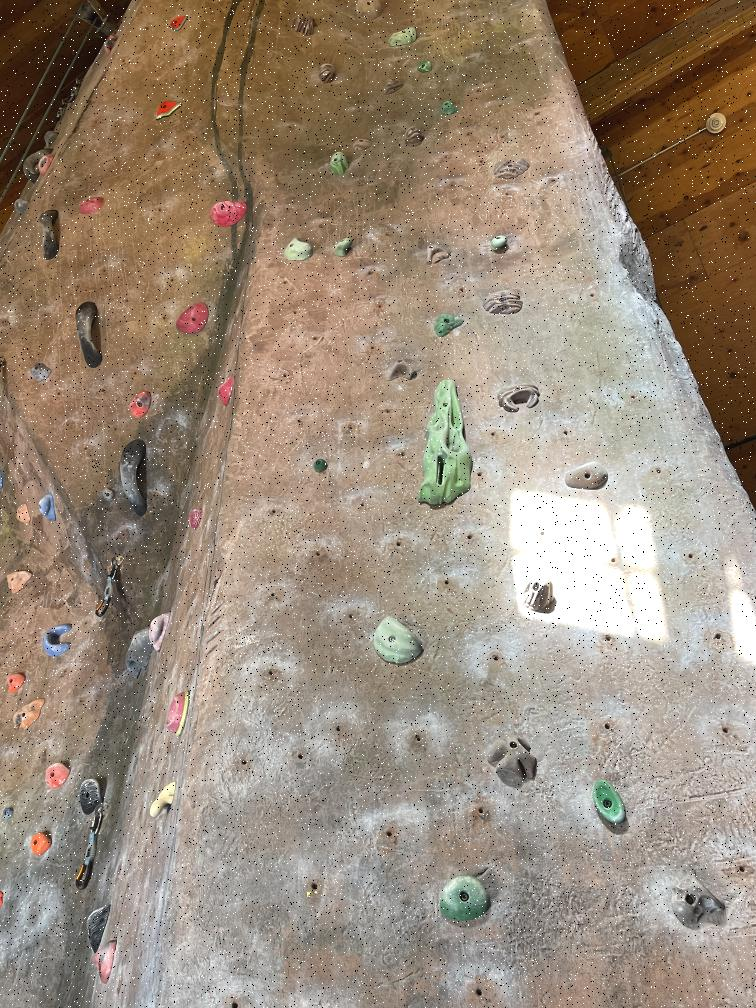Crimp: (8, 696, 50, 733), (384, 23, 427, 50), (429, 310, 466, 340), (144, 98, 188, 123), (3, 566, 35, 594), (216, 375, 238, 409), (14, 498, 34, 529), (166, 14, 192, 32), (351, 135, 376, 153), (415, 57, 435, 75)
Edges: (416, 378, 480, 524), (480, 286, 526, 321), (490, 154, 532, 182), (288, 13, 321, 40), (73, 195, 110, 215), (400, 124, 428, 147)
Foothold: (126, 388, 154, 424), (26, 357, 58, 388), (306, 453, 335, 477), (100, 487, 116, 506)
Jug: (364, 604, 434, 676), (424, 872, 504, 929), (65, 294, 113, 373), (116, 437, 159, 518), (513, 568, 563, 622), (29, 200, 66, 268), (557, 456, 618, 496), (138, 772, 181, 824), (33, 618, 79, 658), (123, 624, 155, 680), (93, 940, 129, 987), (82, 904, 112, 946), (280, 234, 316, 264), (78, 776, 105, 813), (324, 148, 353, 181), (41, 759, 72, 789), (329, 230, 356, 261), (28, 829, 56, 858), (486, 232, 511, 256), (4, 672, 30, 694), (317, 61, 337, 85)
Pinch: (667, 865, 728, 934), (479, 729, 542, 787), (580, 773, 634, 834), (496, 379, 546, 412), (143, 610, 178, 650), (385, 353, 418, 386), (423, 238, 452, 268), (37, 492, 57, 525), (440, 100, 463, 119)
Pocket: (156, 689, 193, 742)
Sloper: (168, 298, 217, 341), (207, 197, 248, 228), (184, 501, 206, 531), (378, 74, 404, 98)
